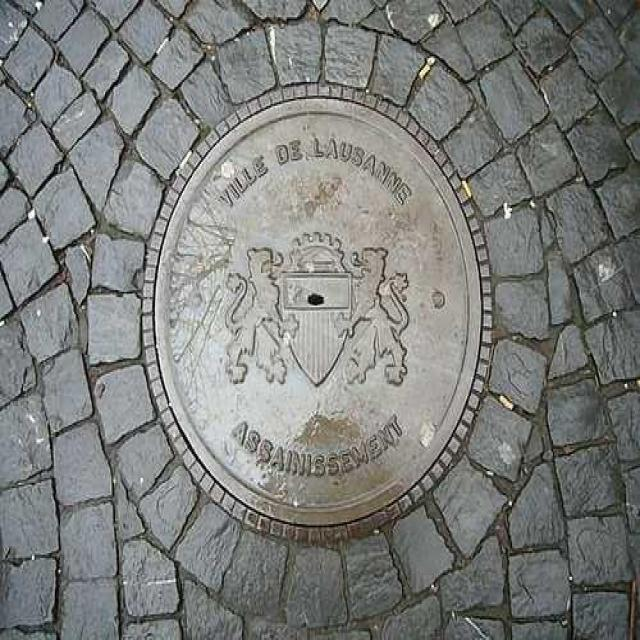manhole: (142, 85, 490, 541)
